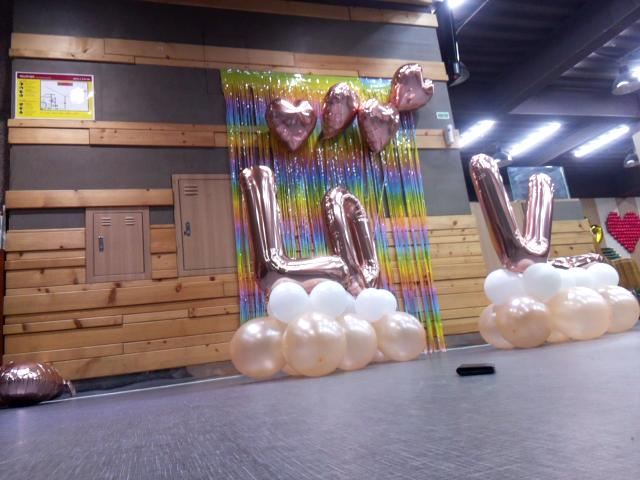wallet: (451, 354, 503, 384)
